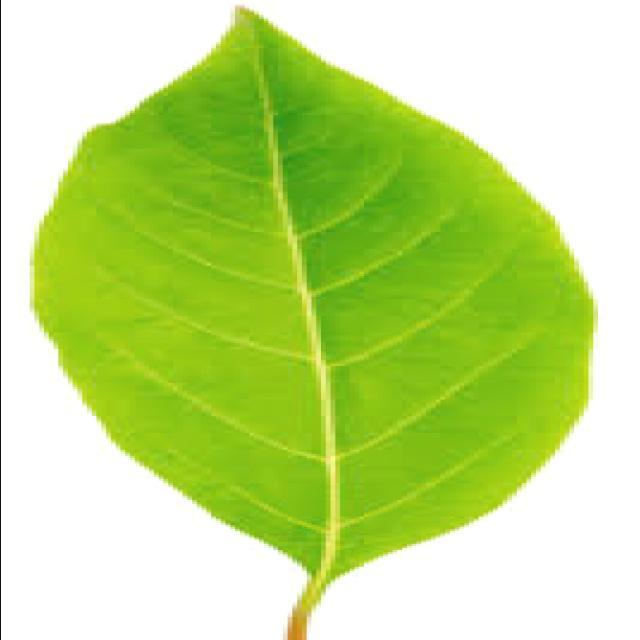leaf: (29, 4, 597, 637)
